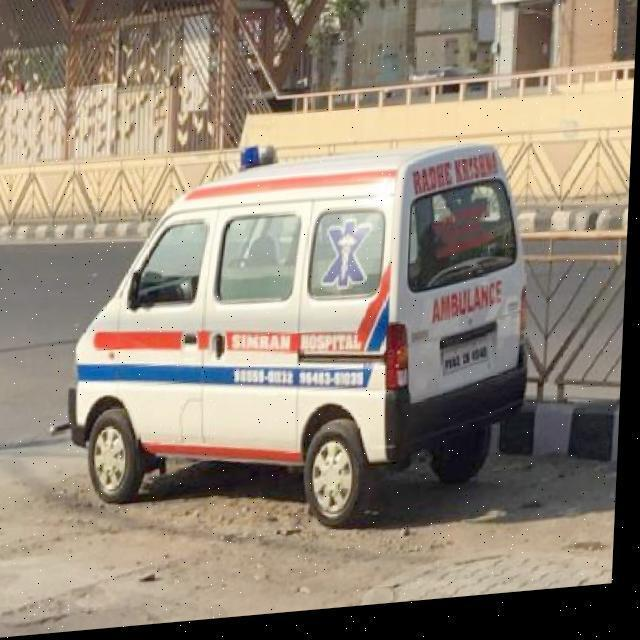Ambulance: (0, 181, 630, 638)
